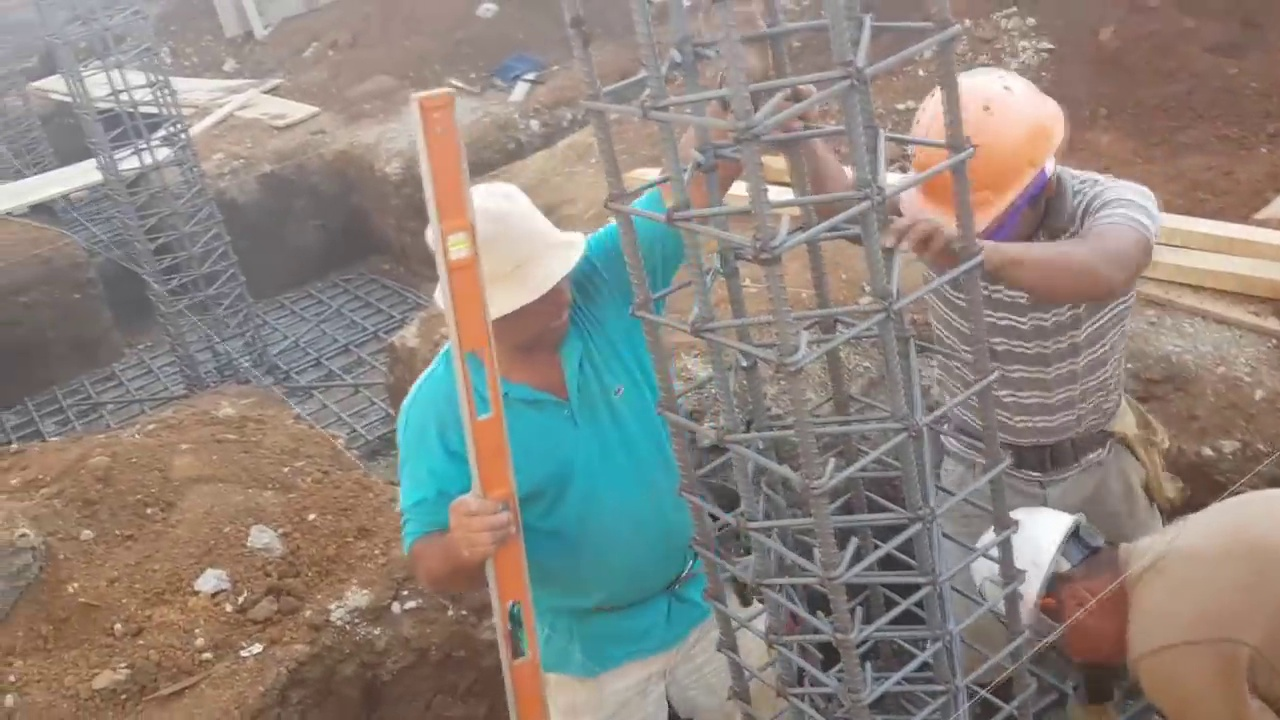helmet: (911, 63, 1063, 244), (966, 504, 1089, 656)
helmet-off: (416, 173, 582, 399)
helmet-on: (895, 64, 1084, 272), (966, 501, 1142, 678)
person: (385, 9, 770, 714), (778, 62, 1162, 489), (962, 498, 1280, 718)
